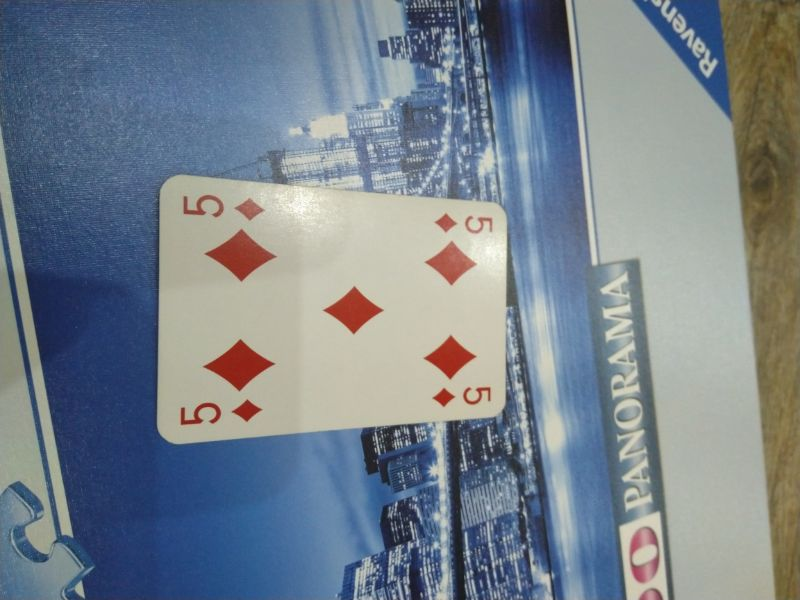5d: (175, 188, 272, 225), (176, 396, 265, 429), (426, 382, 497, 411), (423, 211, 499, 237)
